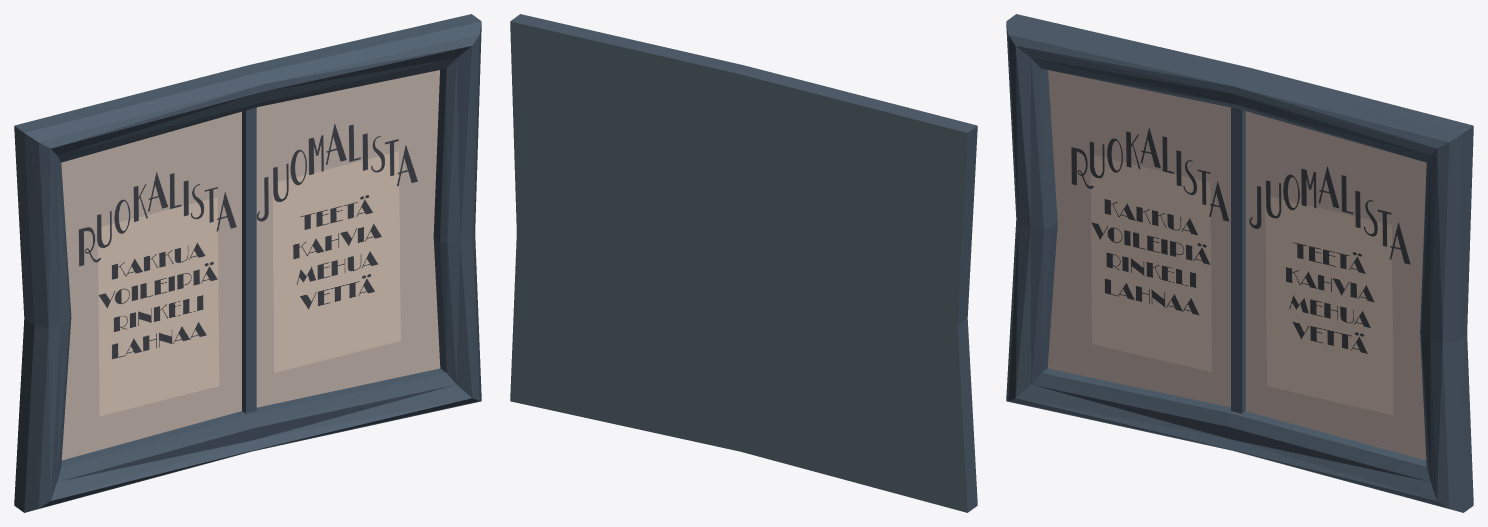
File: menu_upstairs_quest.fbx
3 views of the same model, side by side, from view 1: azimuth 30°, elevation 25°; view 2: azimuth 150°, elevation 25°; view 3: azimuth 330°, elevation 25° (orthographic).
Parts seen in each view (by area): view 1: menu_upstairs; view 2: menu_upstairs; view 3: menu_upstairs.
Boxes of the visible parts, x1,y1,x2,y2 form: menu_upstairs: [14, 14, 481, 512]; menu_upstairs: [510, 14, 977, 512]; menu_upstairs: [1006, 14, 1473, 512].
Size of the model in its own units: 126 by 101 by 8.89.
